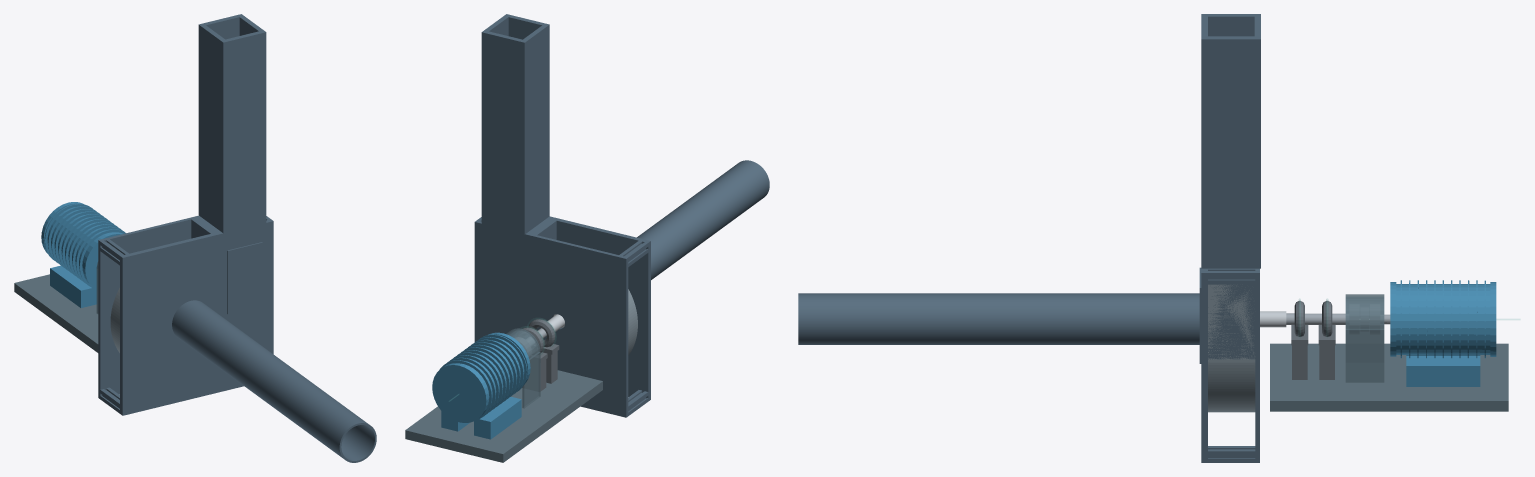
File: induced-draft-fan-enhanced-v1.glb
3 views of the same model, side by side, from view 1: azimuth 30°, elevation 25°; view 2: azimuth 150°, elevation 25°; view 3: azimuth 270°, elevation 25° (orthographic). The views are drawn at different scales.
Visible parts, largest first — view 1: SHELL, motor, drive_base, SHELL010; view 2: SHELL, motor, drive_base, coupling_guard, bearing_drive_housing, bearing_non_drive_housing, SHELL010; view 3: SHELL, drive_base, motor, coupling_guard, SHELL010, SHELL022, bearing_drive_housing, bearing_non_drive_housing.
Part boxes in pixels (x1,y1,x2,y2): SHELL: (98, 14, 376, 462); motor: (41, 202, 125, 307); drive_base: (14, 274, 98, 352); SHELL010: (110, 288, 119, 352); SHELL: (474, 14, 769, 417); motor: (432, 332, 530, 439); drive_base: (405, 370, 602, 462); coupling_guard: (506, 328, 540, 408); bearing_drive_housing: (517, 327, 547, 391); bearing_non_drive_housing: (528, 319, 559, 383); SHELL010: (628, 289, 637, 355); SHELL: (798, 14, 1260, 462); drive_base: (1270, 343, 1508, 411); motor: (1390, 280, 1496, 386); coupling_guard: (1345, 294, 1384, 382); SHELL010: (1208, 359, 1255, 412); SHELL022: (1208, 284, 1254, 359); bearing_drive_housing: (1318, 300, 1335, 379); bearing_non_drive_housing: (1291, 300, 1308, 379).
Bounding box in the file's own units: 650 × 1435 × 2240.
